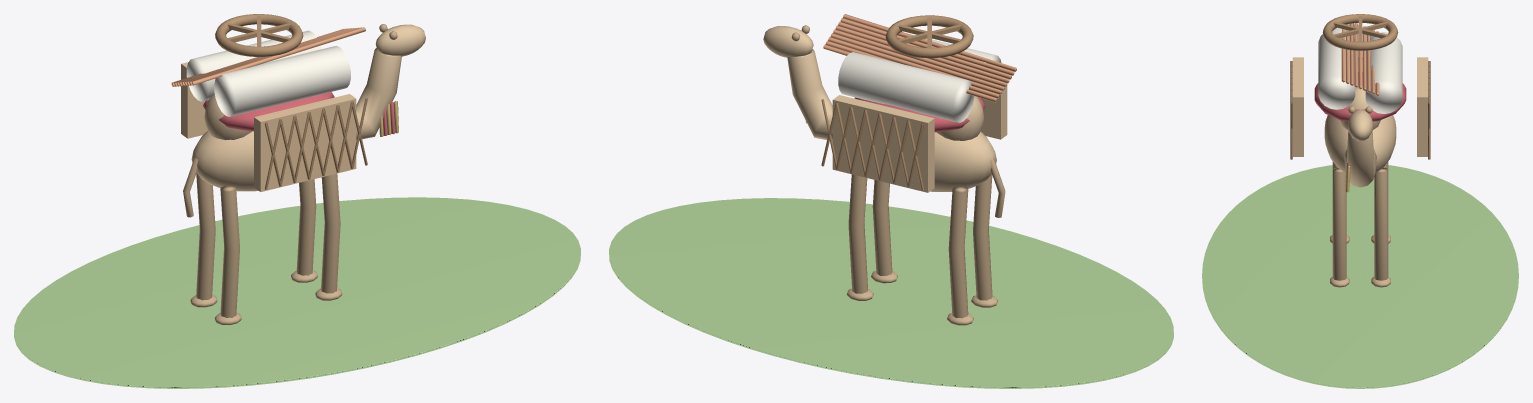
The model's file is kosh.glb.
3 renders of one model, left to right at view 1: azimuth 30°, elevation 25°; view 2: azimuth 150°, elevation 25°; view 3: azimuth 270°, elevation 25°, orthographic. The views are drawn at different scales.
Parts seen in each view (by area): view 1: steppe, leg (×4), felt-roll (×2), kerege (×2), camel-body, neck, shanyraq, head, carpet, uyk, hump; view 2: steppe, leg (×4), kerege (×2), felt-roll, uyk (×7), camel-body, neck, shanyraq, head, hump, carpet; view 3: steppe, felt-roll (×2), leg (×2), kerege (×2), camel-body, shanyraq, neck, carpet, head, hump.
Part boxes in pixels (box(x1,y1,x2,y2)): steppe: box(14, 197, 580, 388); leg (×4): box(196, 173, 340, 317); felt-roll (×2): box(186, 30, 350, 116); kerege (×2): box(181, 62, 356, 191); camel-body: box(191, 130, 258, 191); neck: box(356, 48, 401, 139); shanyraq: box(215, 14, 303, 56); head: box(375, 24, 425, 56); carpet: box(203, 92, 334, 131); uyk: box(191, 27, 365, 85); hump: box(204, 94, 251, 140); steppe: box(609, 198, 1173, 388); leg (×4): box(848, 174, 992, 318); kerege (×2): box(832, 83, 1007, 192); felt-roll: box(838, 52, 974, 122); uyk (×7): box(828, 14, 1016, 94); camel-body: box(930, 131, 996, 191); neck: box(787, 49, 832, 140); shanyraq: box(885, 15, 973, 58); head: box(763, 26, 813, 57); hump: box(937, 96, 983, 140); carpet: box(854, 97, 985, 132); steppe: box(1202, 165, 1518, 388); felt-roll (×2): box(1318, 28, 1402, 113); leg (×2): box(1332, 167, 1388, 280); kerege (×2): box(1292, 57, 1428, 156); camel-body: box(1324, 115, 1396, 172); shanyraq: box(1322, 14, 1398, 50); neck: box(1344, 131, 1376, 187); carpet: box(1314, 72, 1406, 121); head: box(1348, 109, 1372, 141); hump: box(1340, 85, 1380, 129).
Bounding box in the file's own units: 5.6 × 2.73 × 3.36.
